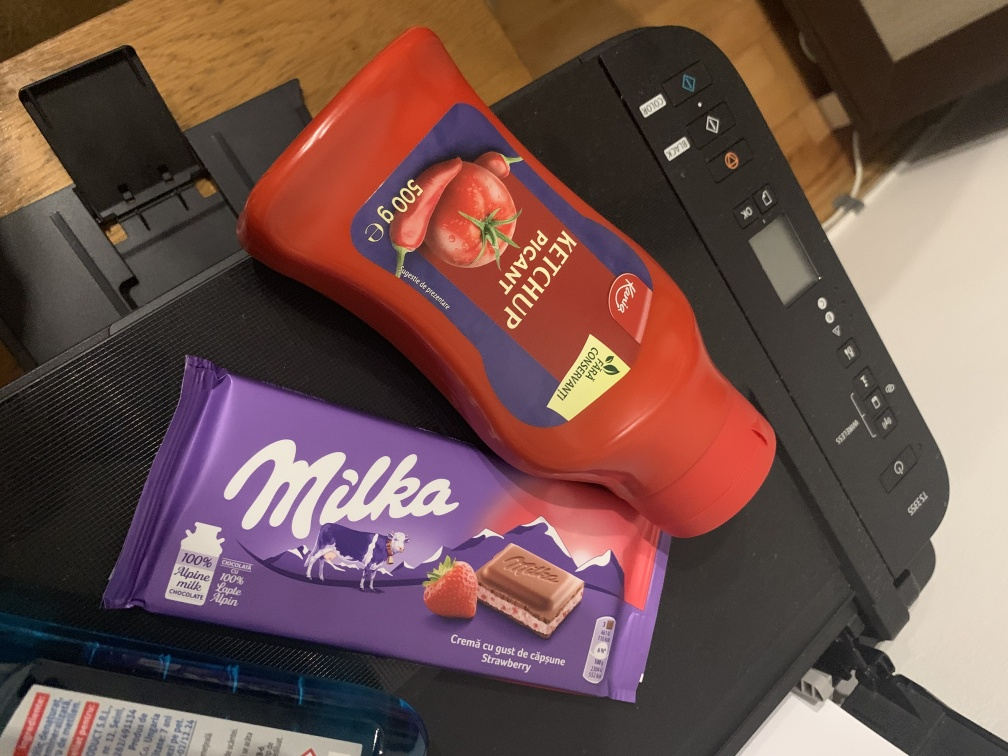ketchup: (242, 20, 782, 545)
milka: (96, 358, 683, 720)
